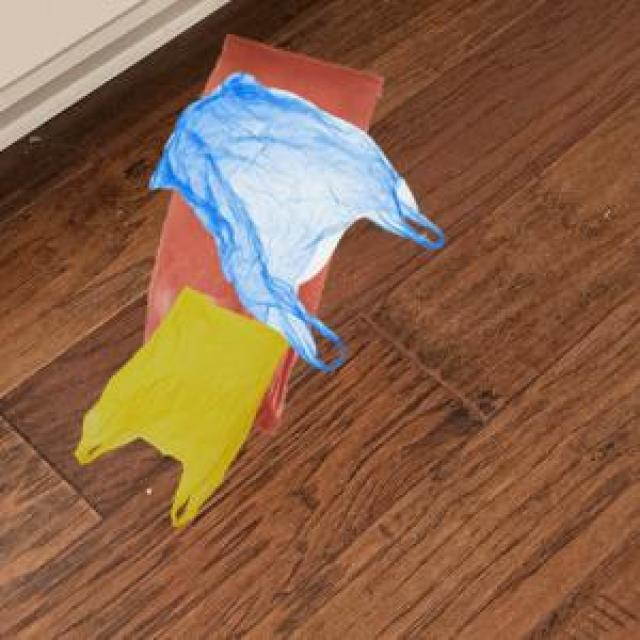plastic: (88, 11, 432, 501)
